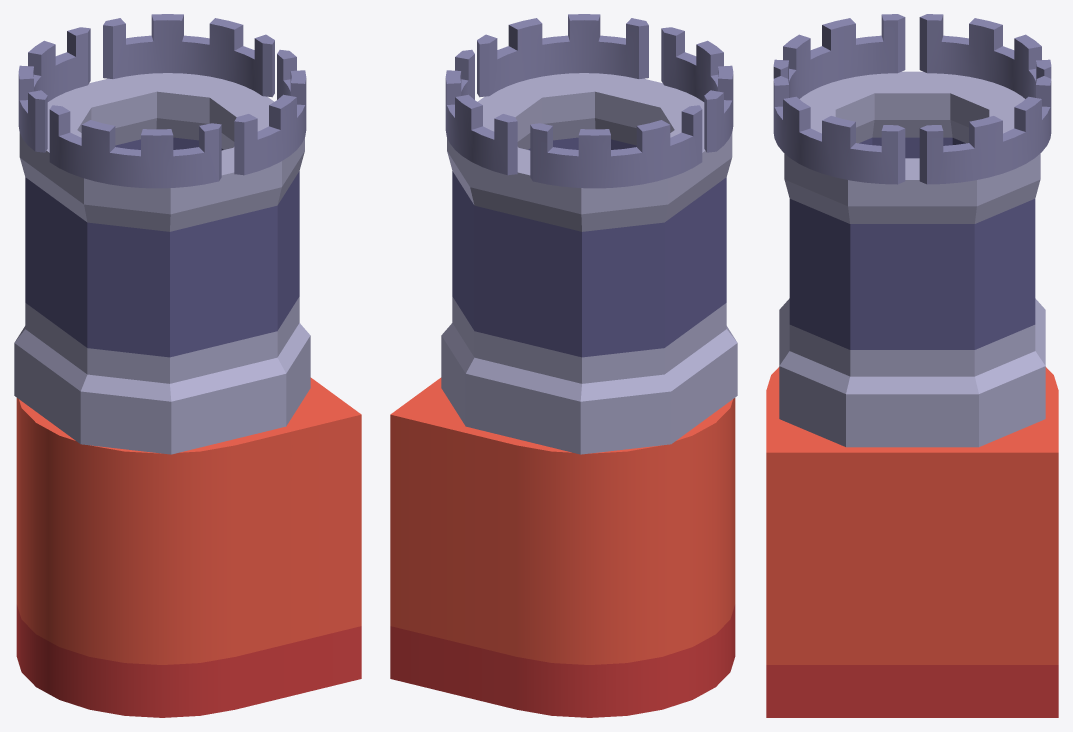
Rendered from CastleTowerBase.fbx.
3 views of the same model, side by side, from view 1: azimuth 30°, elevation 25°; view 2: azimuth 150°, elevation 25°; view 3: azimuth 270°, elevation 25° (orthographic).
Parts seen in each view (by area): view 1: mergedBlocks; view 2: mergedBlocks; view 3: mergedBlocks.
Part boxes in pixels (left/top/right/bottom): mergedBlocks: left=14, top=14, right=361, bottom=717; mergedBlocks: left=390, top=14, right=737, bottom=717; mergedBlocks: left=766, top=14, right=1058, bottom=717.
Size of the model in its own units: 10 by 22 by 10.
